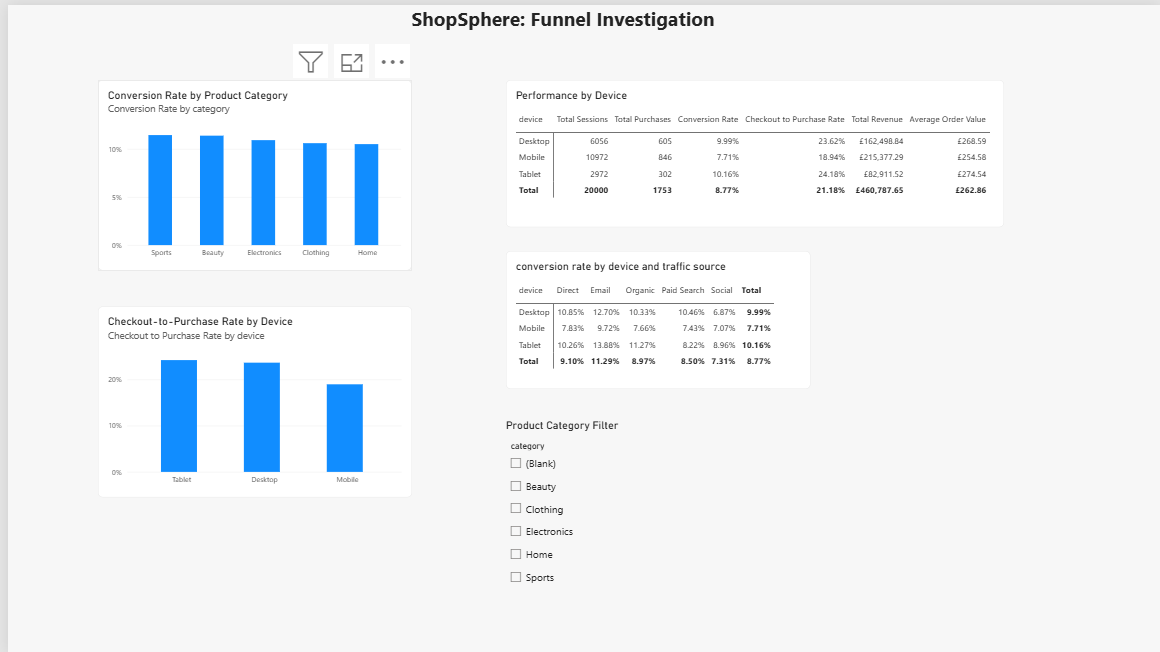

What the dashboard file says about the page in this screenshot:
{"tool":"powerbi","page":{"name":"Funnel Investigation","canvas":[1920,1080],"ordinal":1},"visuals":[{"type":"textbox","box":[672.5,0,572.5,82.5],"z":0},{"type":"clusteredColumnChart","title":"Conversion Rate by Product Category","fields":{"Category":["public session_funnel.category"],"Y":["public session_funnel.Conversion Rate"]},"box":[150,125,522.5,317.5],"z":1},{"type":"clusteredColumnChart","title":"Checkout-to-Purchase Rate by Device","fields":{"Category":["public session_funnel.device"],"Y":["Funnel Stages.Checkout to Purchase Rate"]},"box":[150,502.5,523,318],"z":2},{"type":"pivotTable","title":"Performance by Device","fields":{"Rows":["public session_funnel.device"],"Values":["Funnel Stages.Total Sessions","public session_funnel.Total Purchases","public session_funnel.Conversion Rate","Funnel Stages.Checkout to Purchase Rate","public session_funnel.Total Revenue","public session_funnel.Average Order Value"]},"box":[830,125,830,245],"z":3},{"type":"slicer","title":"Product Category Filter","fields":{"Values":["public session_funnel.category"]},"box":[830,690,570,292.5],"z":4},{"type":"pivotTable","title":"conversion rate by device and traffic source","fields":{"Columns":["public session_funnel.traffic_source"],"Rows":["public session_funnel.device"],"Values":["public session_funnel.Conversion Rate"]},"box":[830,410,507.5,230],"z":5}]}

Visuals, with their boxes in screenshot pixels (x1, y1, x2, y2), scaled from the page's 1920x1080 canvas onto the 1160x652 screenshot:
textbox: box=[406, 0, 752, 50]
"Conversion Rate by Product Category" clusteredColumnChart: box=[91, 75, 406, 267]
"Checkout-to-Purchase Rate by Device" clusteredColumnChart: box=[91, 303, 407, 495]
"Performance by Device" pivotTable: box=[501, 75, 1003, 223]
"Product Category Filter" slicer: box=[501, 417, 846, 593]
"conversion rate by device and traffic source" pivotTable: box=[501, 248, 808, 386]
